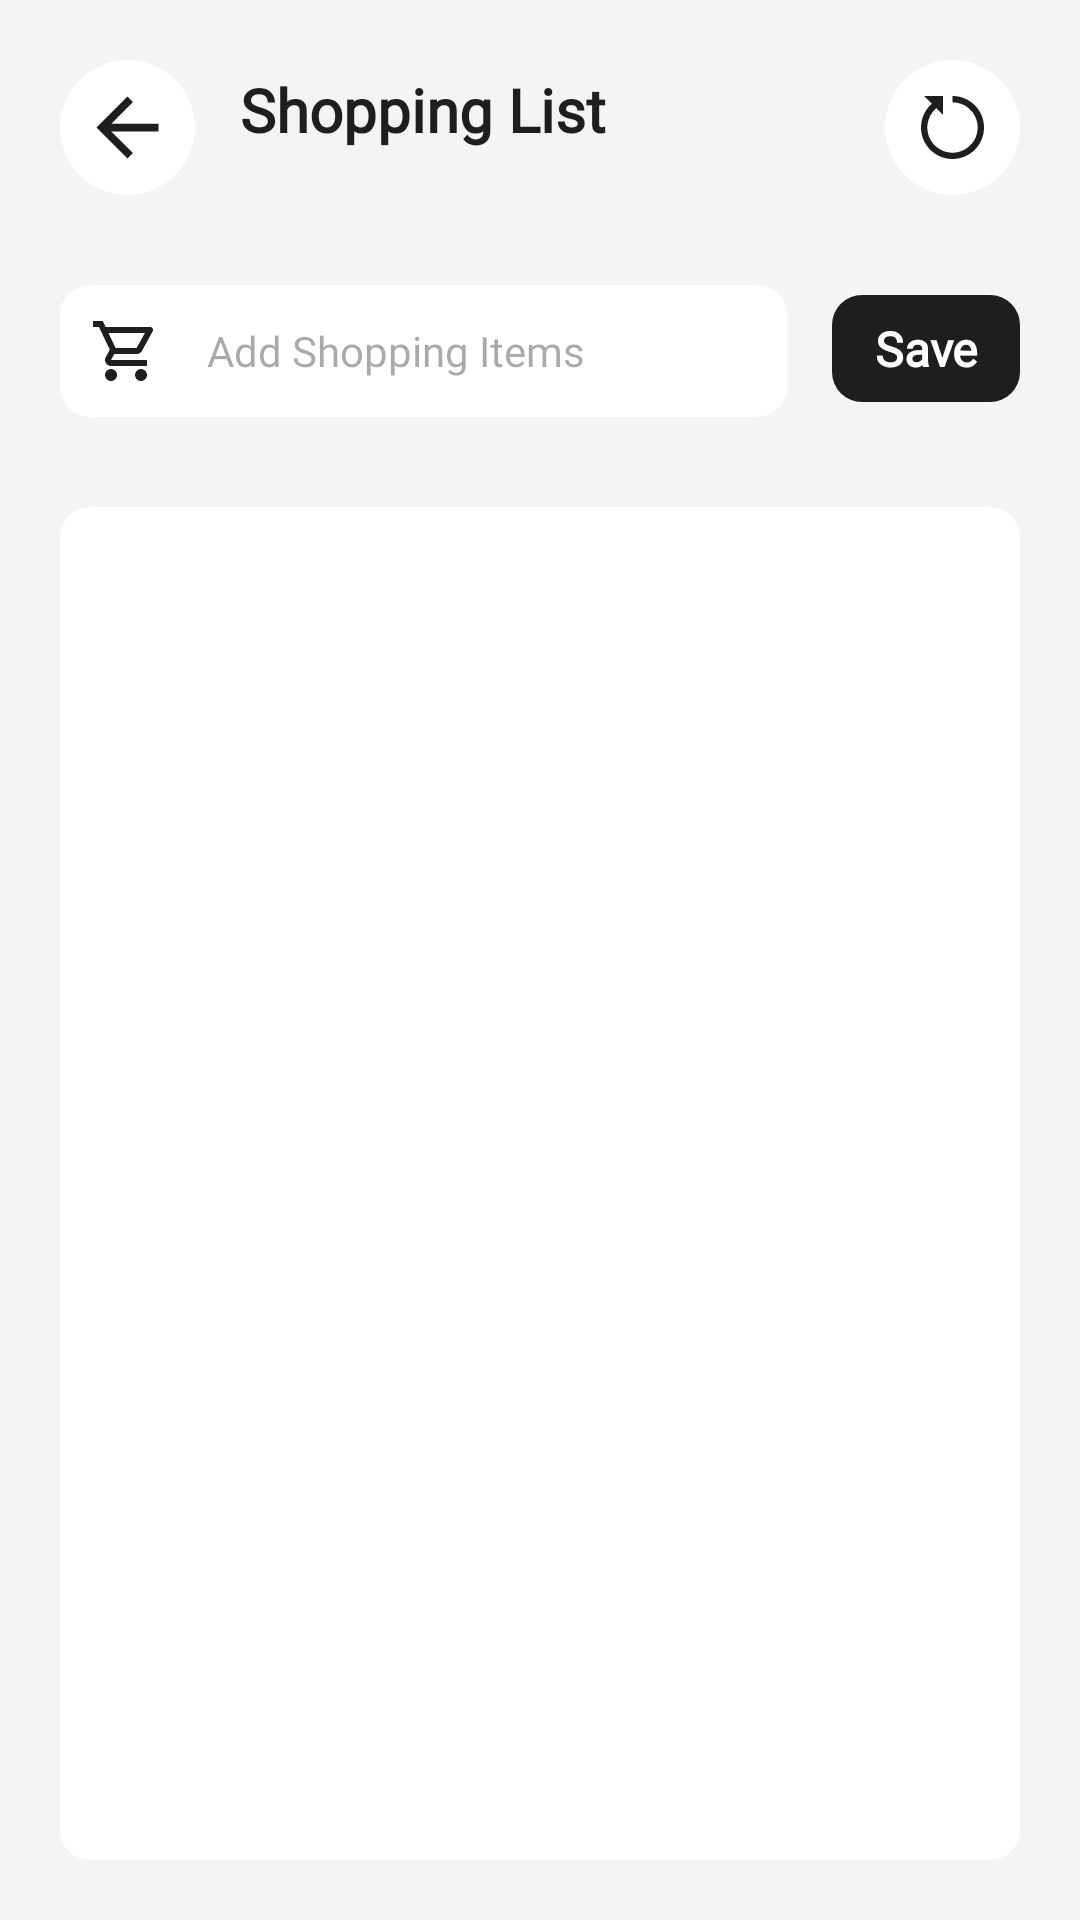

Screen size 1080x1920. Icon name, then its box in pixels as {"left": x1, "top": y1, "right": x2, "bottom": y2}:
arrow back: {"left": 60, "top": 60, "right": 195, "bottom": 195}
reset: {"left": 885, "top": 60, "right": 1020, "bottom": 195}
